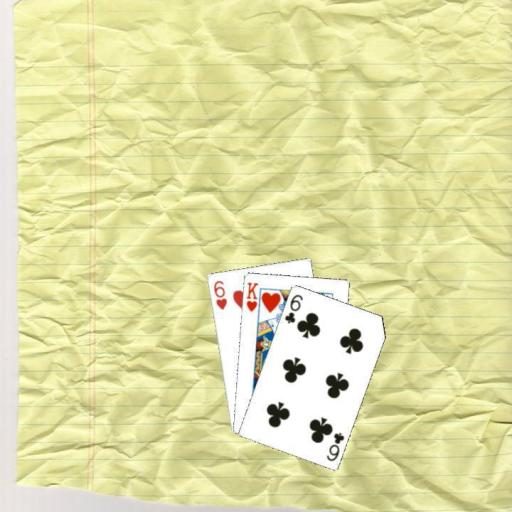card-corner: (282, 291, 304, 324), (324, 429, 346, 462), (210, 277, 228, 311), (243, 279, 260, 313)
